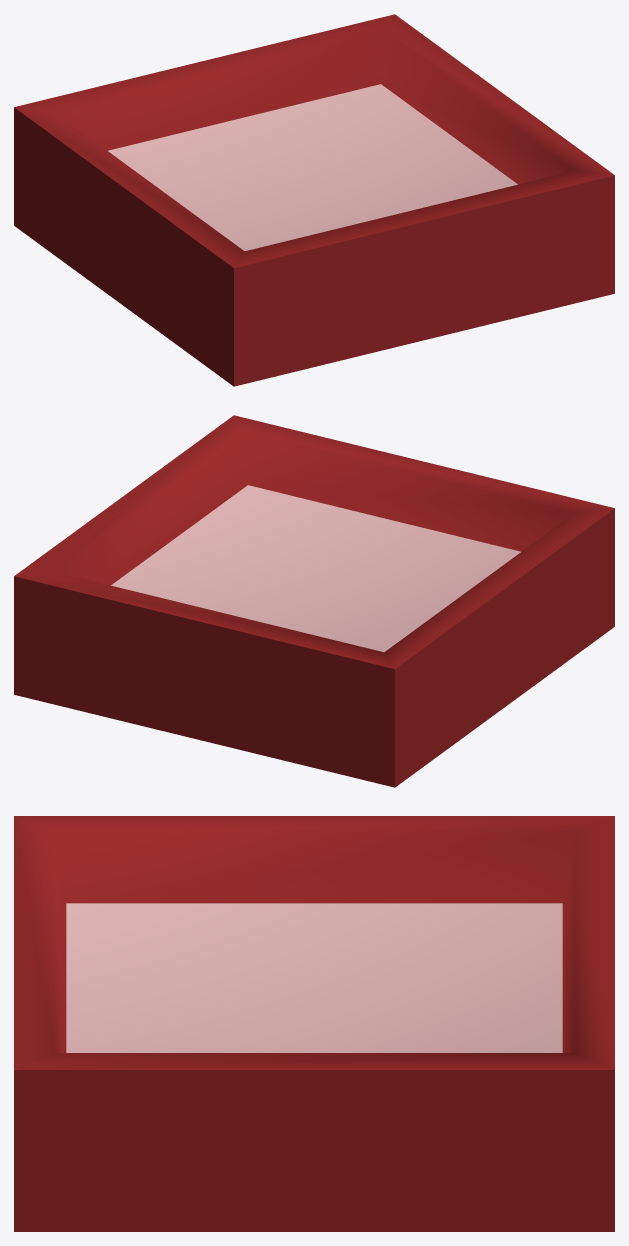
The picture shows the model from 3 angles, top to bottom: view 1: azimuth 30°, elevation 25°; view 2: azimuth 150°, elevation 25°; view 3: azimuth 270°, elevation 25°; orthographic projection. The views are drawn at different scales.
Parts seen in each view (by area): view 1: pCube1; view 2: pCube1; view 3: pCube1.
Part boxes in pixels (x1,y1,x2,y2): pCube1: (14,14,614,386); pCube1: (14,415,614,787); pCube1: (14,816,614,1231).
Bounding box in the file's own units: 54.55 × 16.21 × 54.55.
